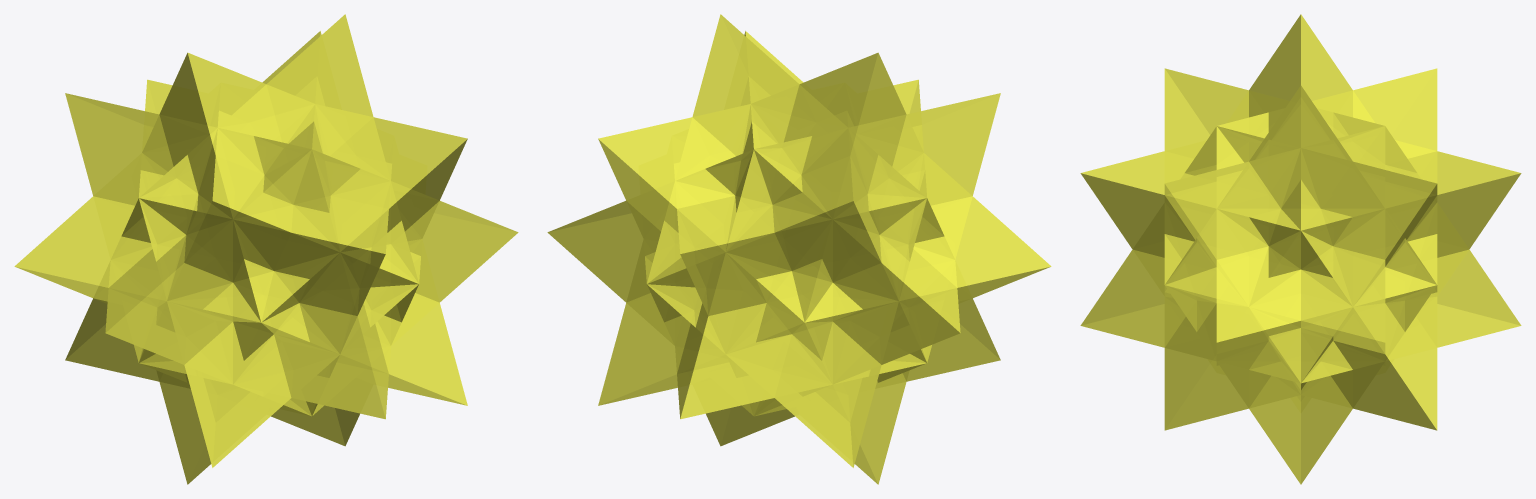
File: GreatRhombicTriacontahedron.obj
3 renders of one model, left to right at view 1: azimuth 30°, elevation 25°; view 2: azimuth 150°, elevation 25°; view 3: azimuth 270°, elevation 25°, orthographic. The views are drawn at different scales.
Bounding box in the file's own units: 1.12 × 1.12 × 1.12.
